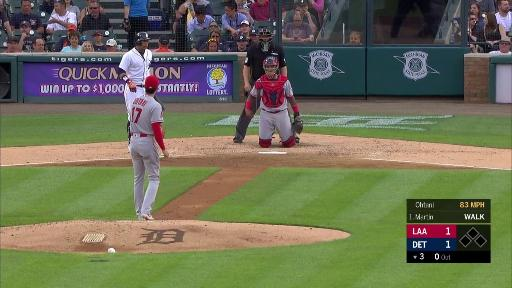pitcher: (129, 76, 170, 222)
